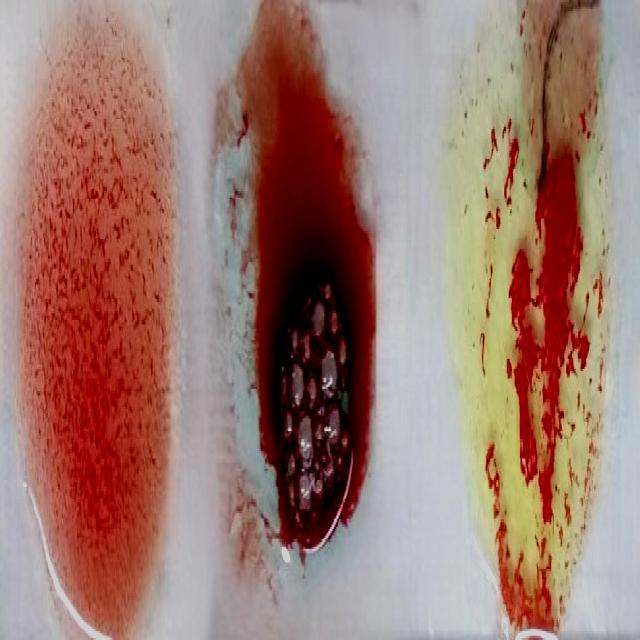A: (224, 0, 369, 589)
B: (474, 0, 605, 630)
D: (23, 0, 169, 616)
